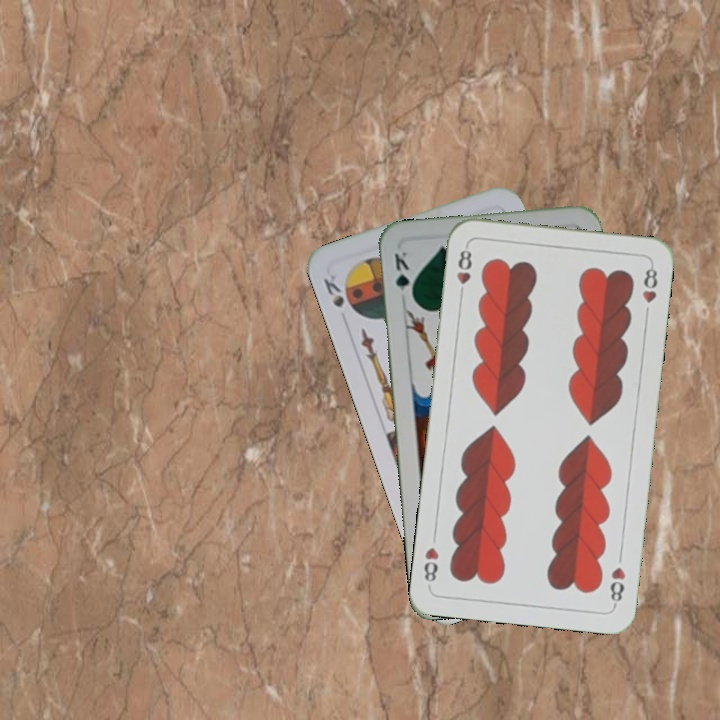GK: (390, 247, 416, 304)
H8: (453, 241, 475, 300), (606, 563, 628, 609)
SK: (319, 270, 347, 310)
